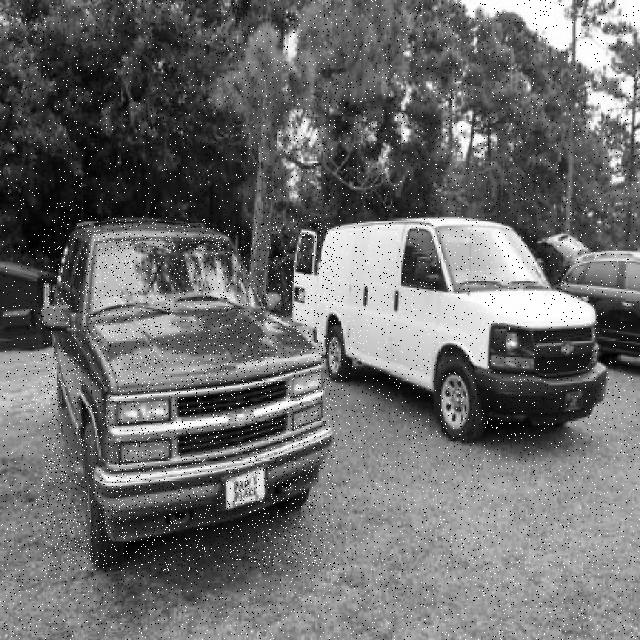SUV: (41, 218, 335, 571)
Van: (311, 217, 607, 442)
